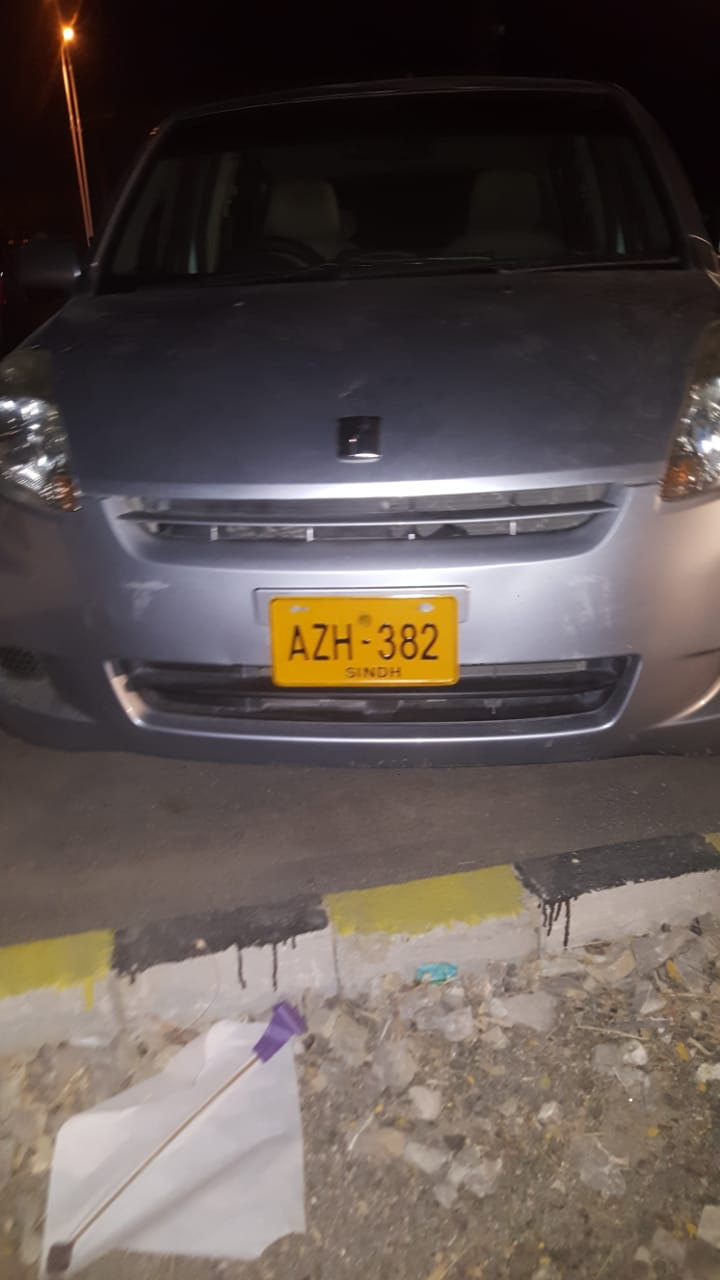license plate: (270, 596, 458, 686)
